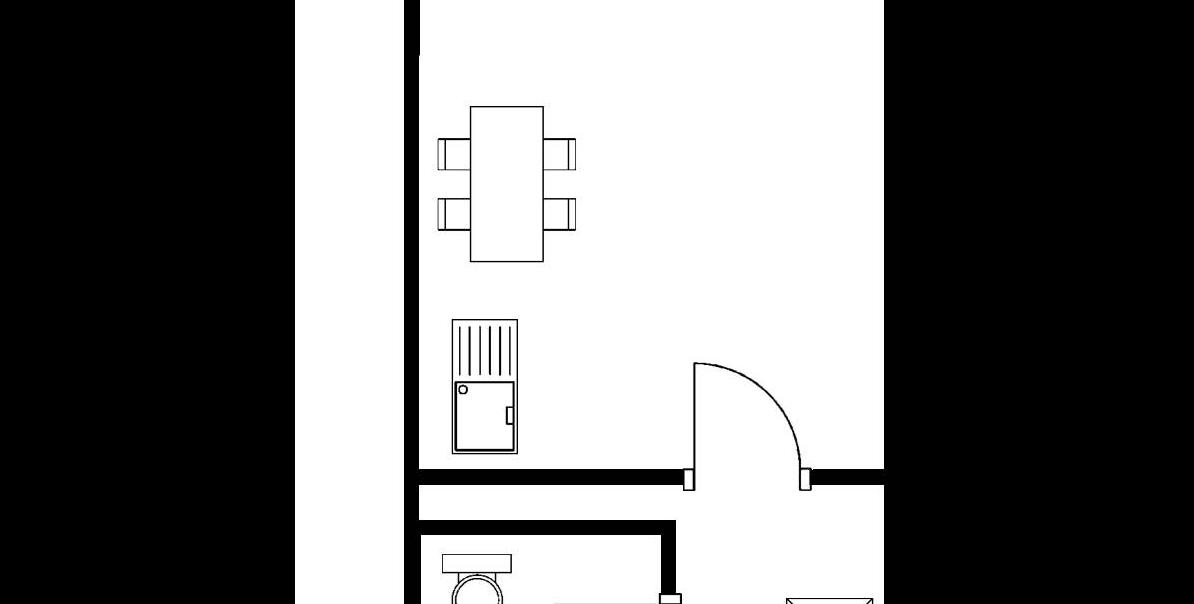dining_table: (428, 97, 585, 272)
sink: (444, 310, 522, 460)
toilet: (434, 545, 522, 604)
